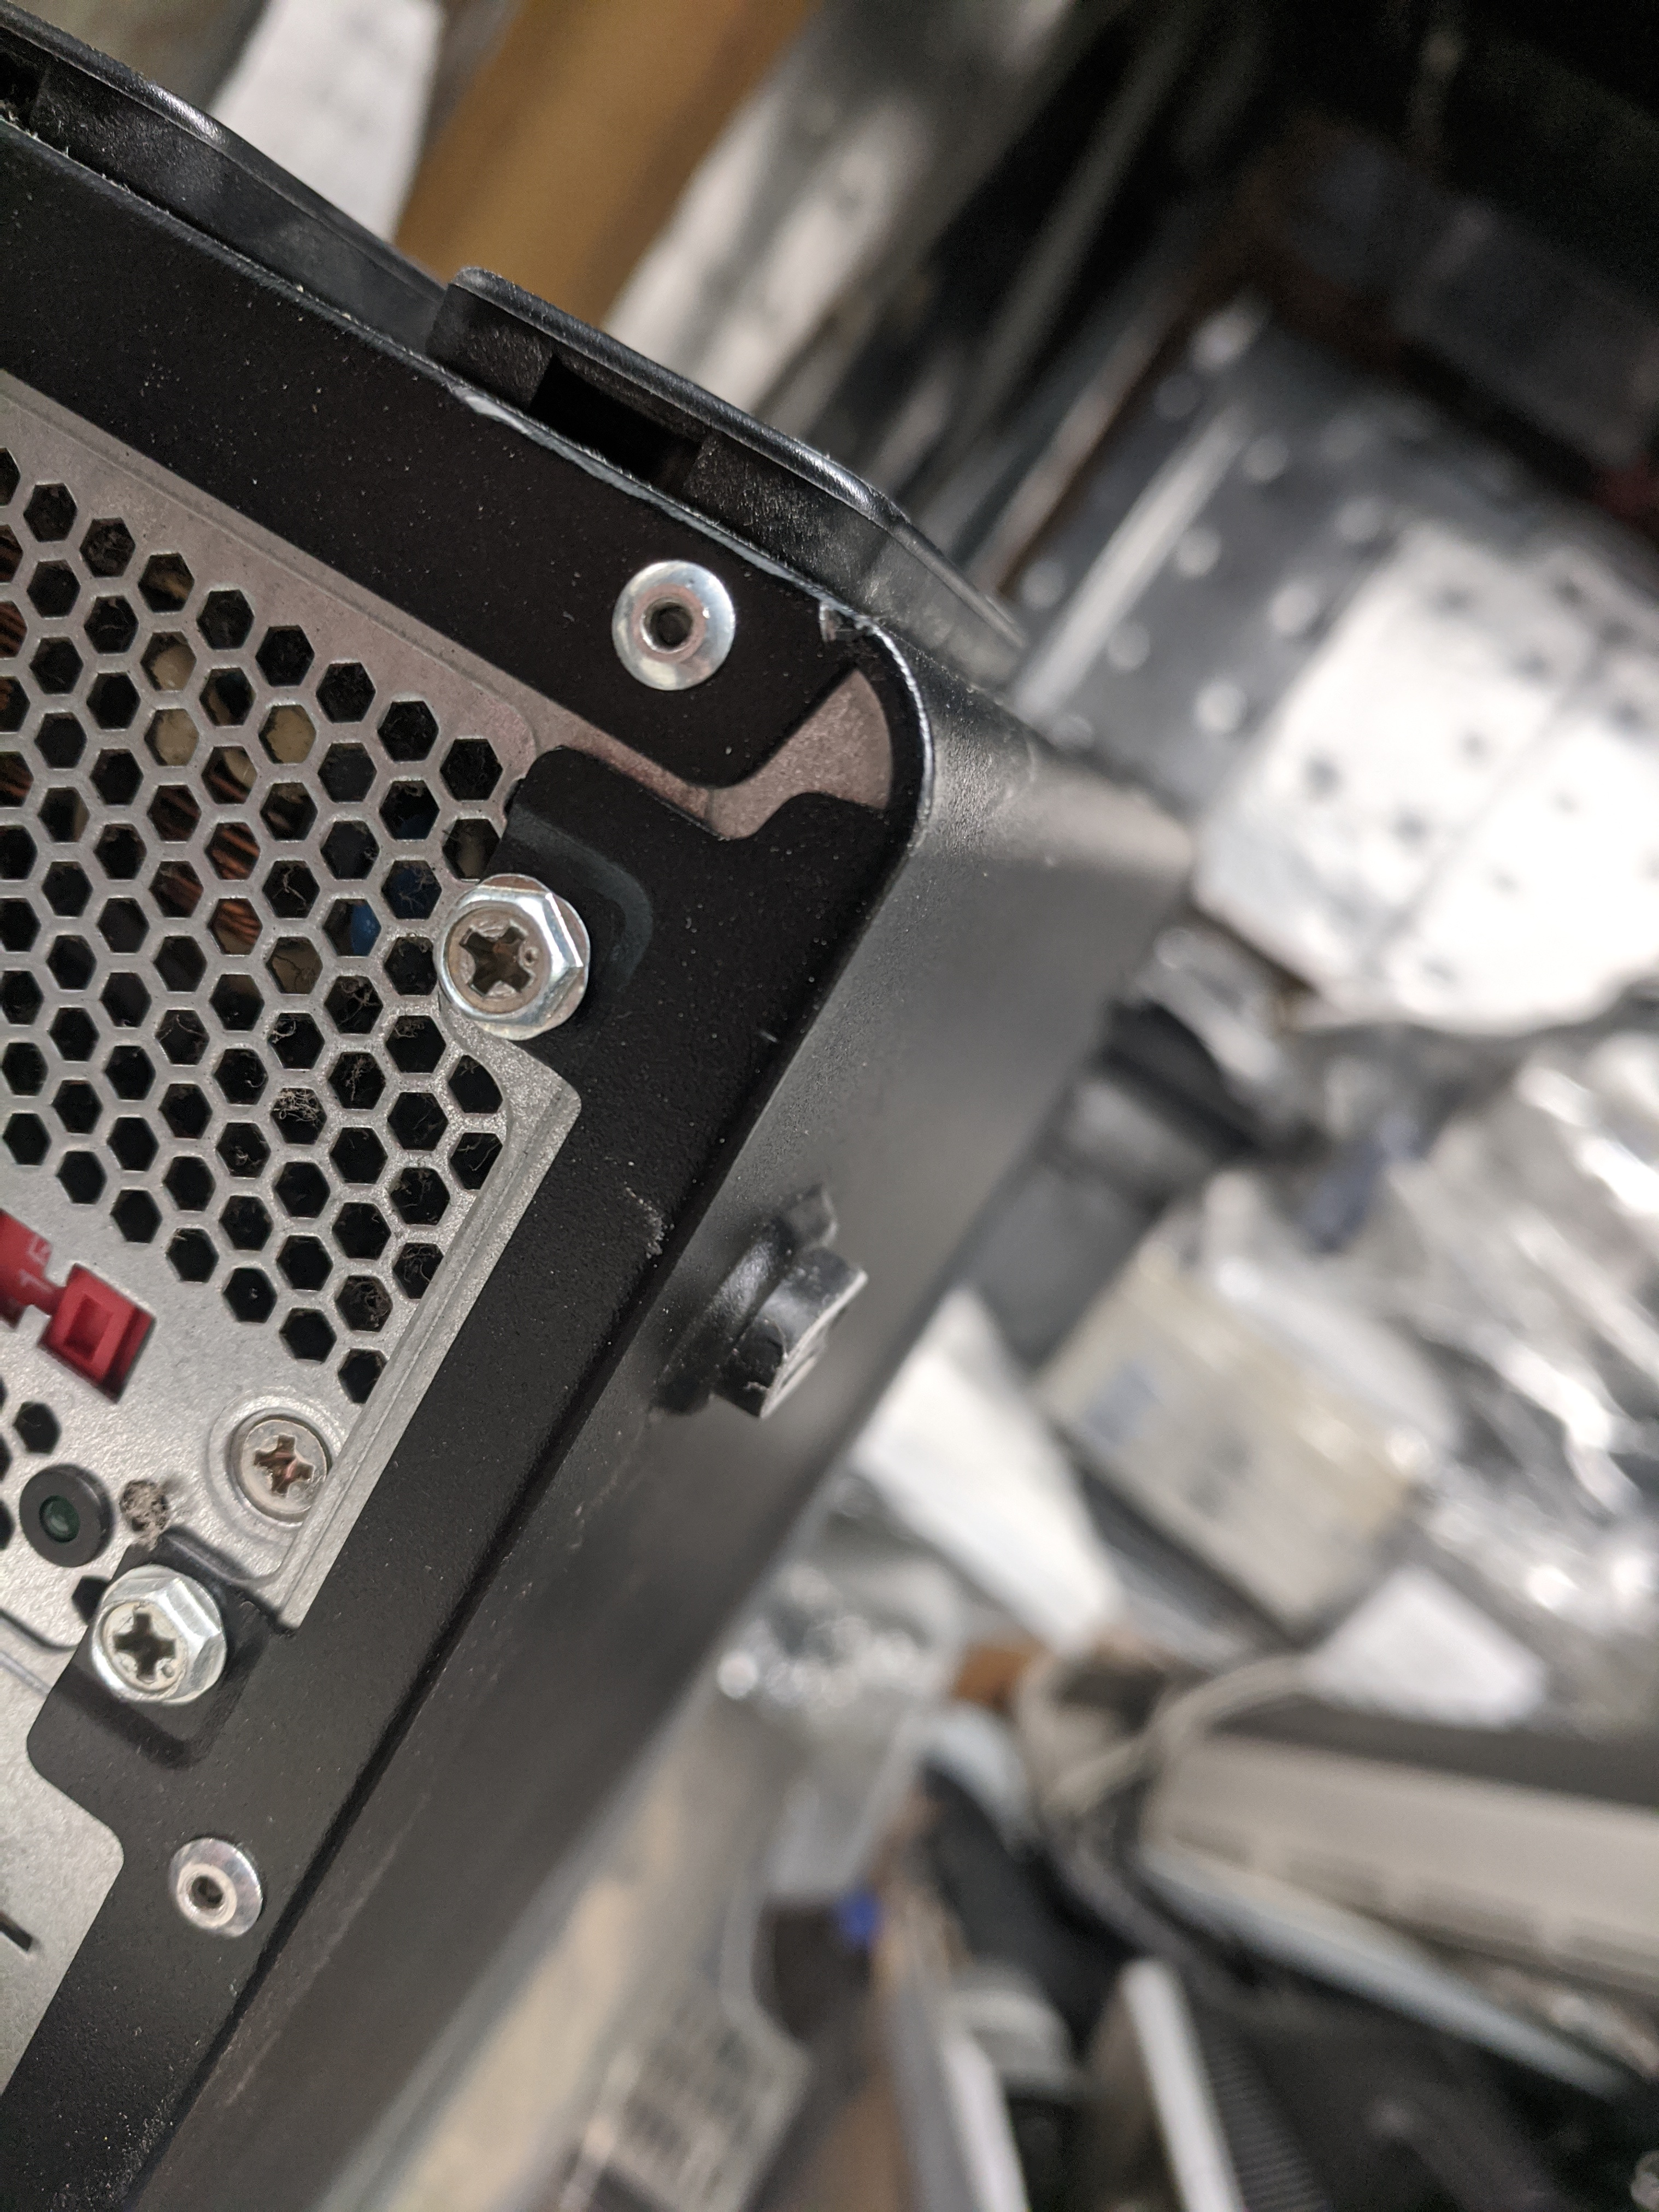cross_recessed_screw: (427, 869, 579, 1035), (77, 1578, 207, 1705), (221, 1404, 340, 1531)
